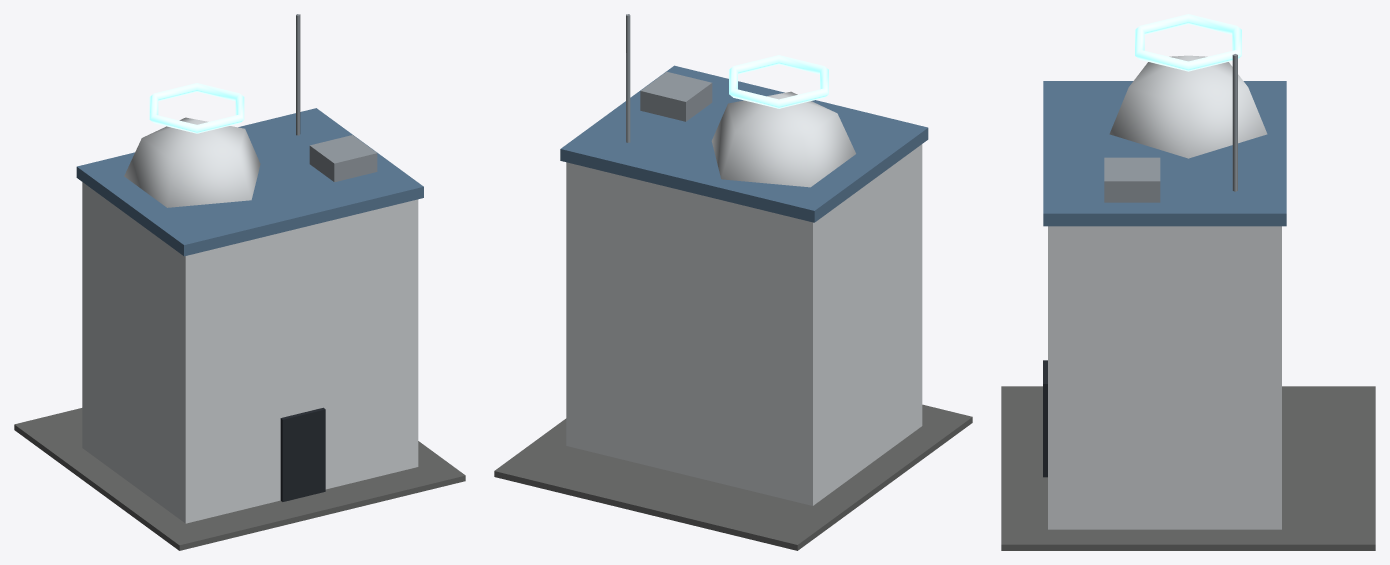
Rendered from bld_special_laboratory_a09_lod2.glb.
3 views of the same model, side by side, from view 1: azimuth 30°, elevation 25°; view 2: azimuth 150°, elevation 25°; view 3: azimuth 270°, elevation 25° (orthographic). The views are drawn at different scales.
Visible parts, largest first — view 1: body; view 2: body; view 3: body.
Boxes of the visible parts, x1,y1,x2,y2 form: body: (14, 14, 465, 550); body: (494, 14, 972, 550); body: (1001, 14, 1375, 550).
Bounding box in the file's own units: 8 × 10.85 × 8.
